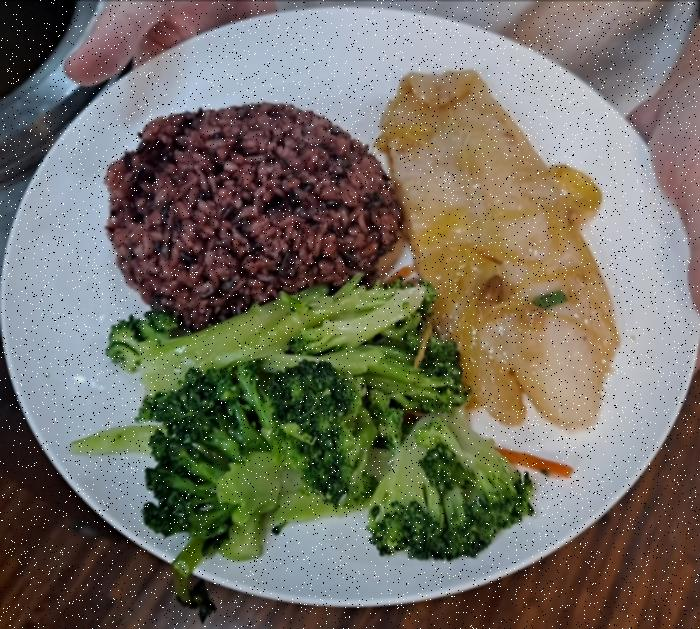plate: (0, 0, 696, 614)
purple rice: (98, 103, 408, 324)
side dish: (105, 277, 526, 567)
steamed fish fillet: (381, 60, 621, 434)
